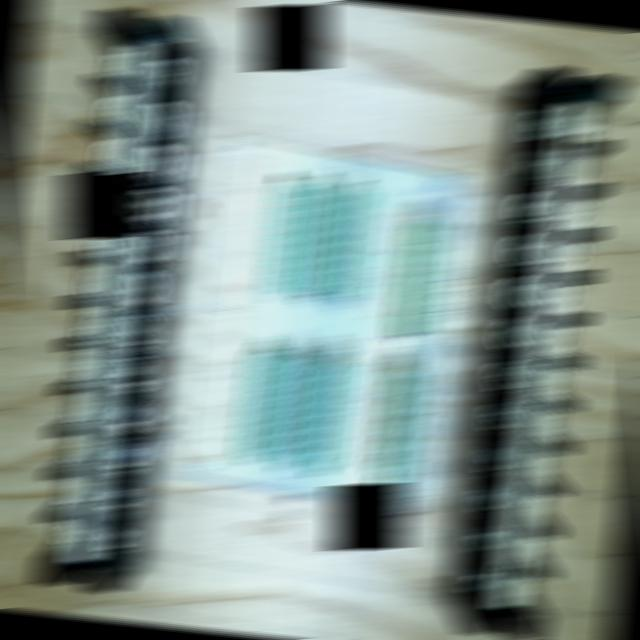Flathead_Block: (461, 69, 620, 640)
Phillips_Block: (36, 8, 184, 592)
Terminal_1: (371, 370, 422, 486), (393, 218, 443, 335)
Terminal_2: (303, 362, 352, 472), (325, 188, 373, 300), (292, 182, 340, 293), (270, 356, 317, 465), (236, 348, 282, 458)
